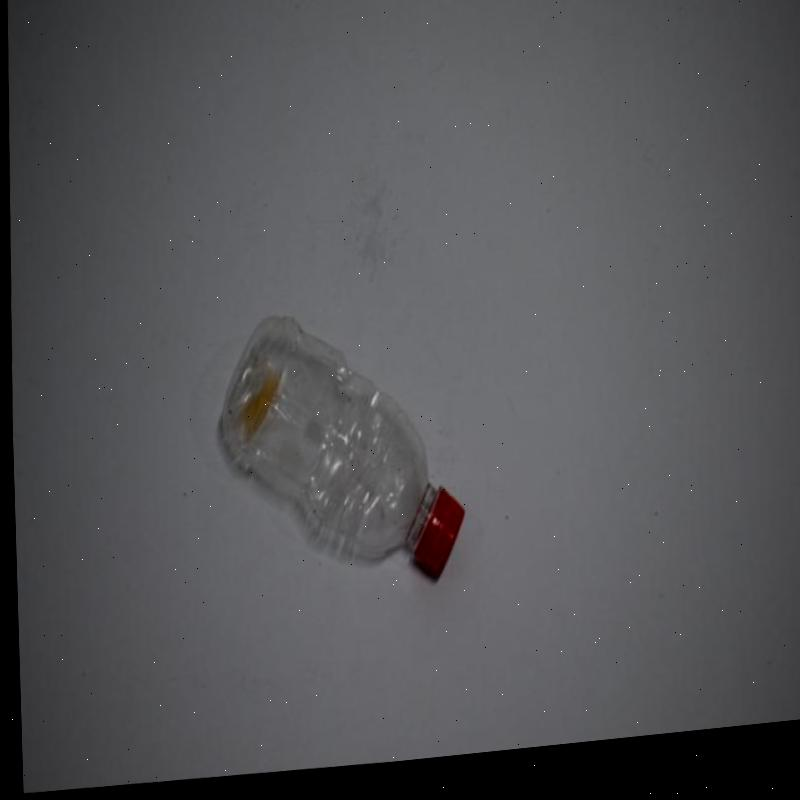botella: (205, 301, 466, 615)
